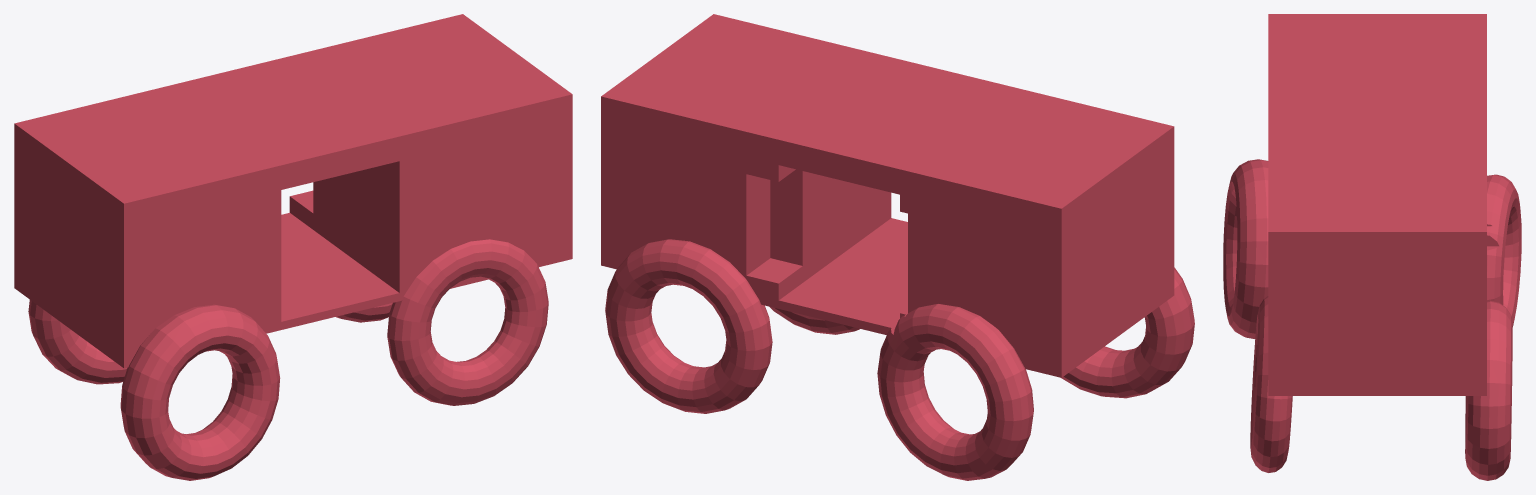
The model's file is Sizzling Wluff.glb.
The picture shows the model from 3 angles, left to right: view 1: azimuth 30°, elevation 25°; view 2: azimuth 150°, elevation 25°; view 3: azimuth 270°, elevation 25°; orthographic projection. The views are drawn at different scales.
Parts seen in each view (by area): view 1: Mesh_Mesh_head_geo.001_lambert2SG.001; view 2: Mesh_Mesh_head_geo.001_lambert2SG.001; view 3: Mesh_Mesh_head_geo.001_lambert2SG.001.
Boxes of the visible parts, left/top/right/bottom form: Mesh_Mesh_head_geo.001_lambert2SG.001: left=14, top=14, right=572, bottom=480; Mesh_Mesh_head_geo.001_lambert2SG.001: left=601, top=14, right=1194, bottom=480; Mesh_Mesh_head_geo.001_lambert2SG.001: left=1223, top=14, right=1521, bottom=480.
Size of the model in its own units: 57.98 by 34.5 by 33.
